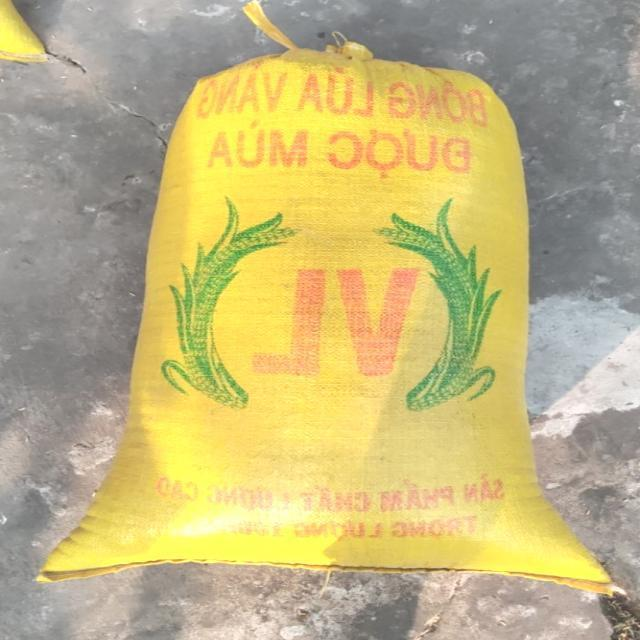gunny_bag: (38, 2, 613, 595)
